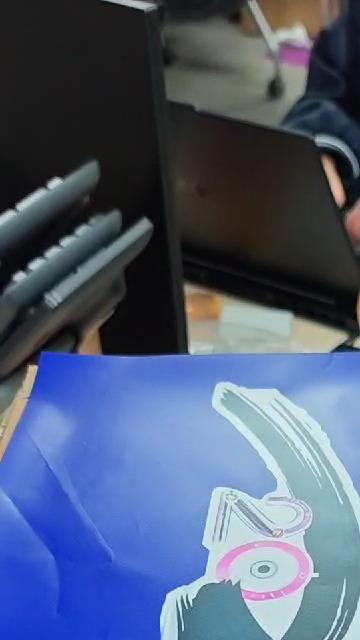B_R1: (147, 368, 360, 640)
